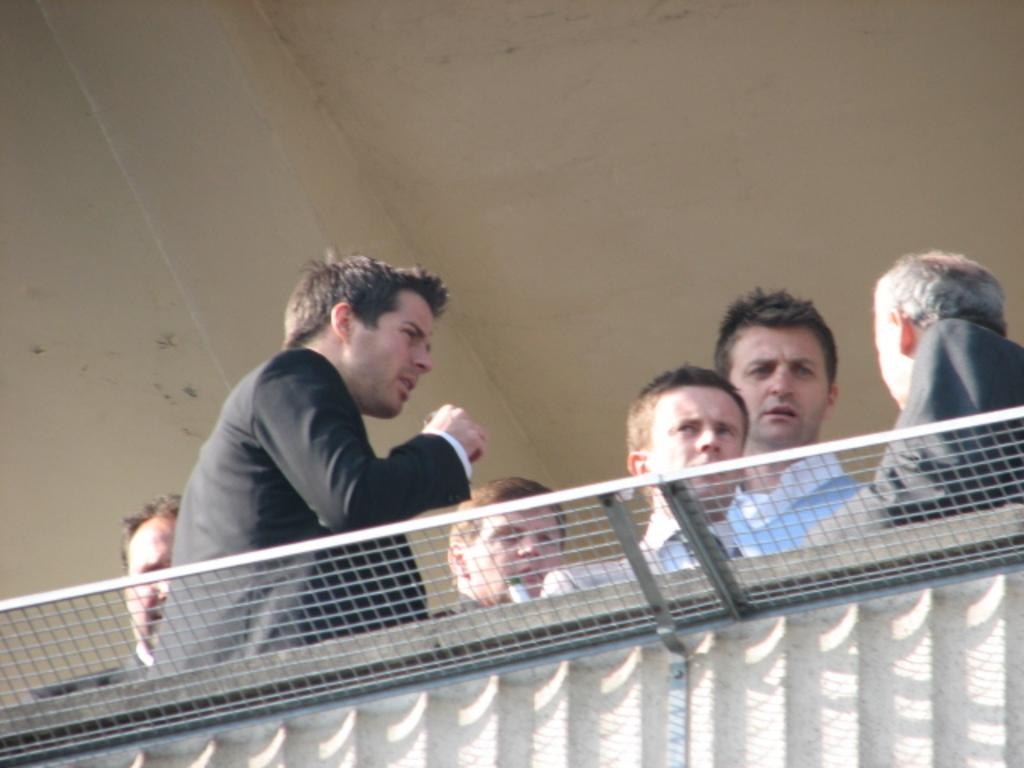Sem Máscara: (729, 329, 827, 448), (644, 392, 744, 501), (345, 300, 435, 412), (454, 503, 561, 595), (120, 518, 172, 647), (871, 294, 897, 403)
